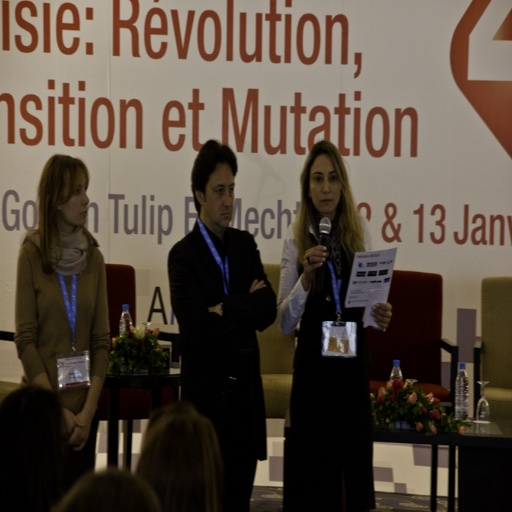hand: (298, 228, 341, 285), (65, 411, 91, 453), (368, 300, 392, 333), (64, 401, 86, 434), (248, 276, 266, 292), (207, 302, 223, 317)
